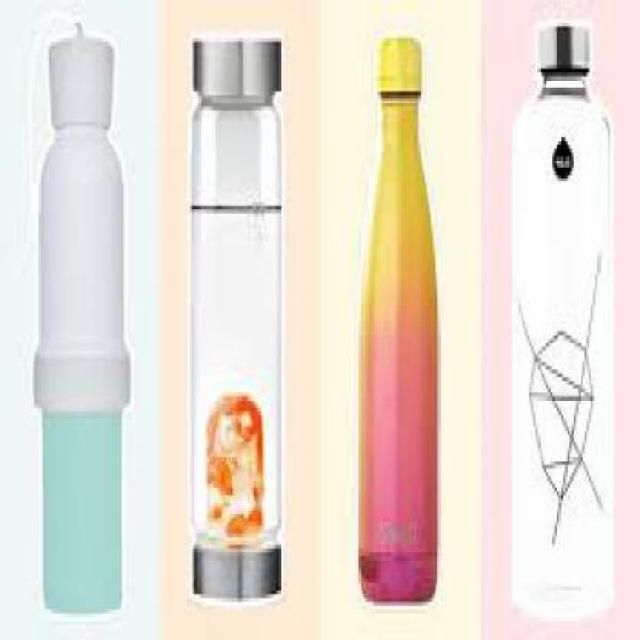Drinking: (179, 19, 296, 636), (348, 23, 446, 606)
